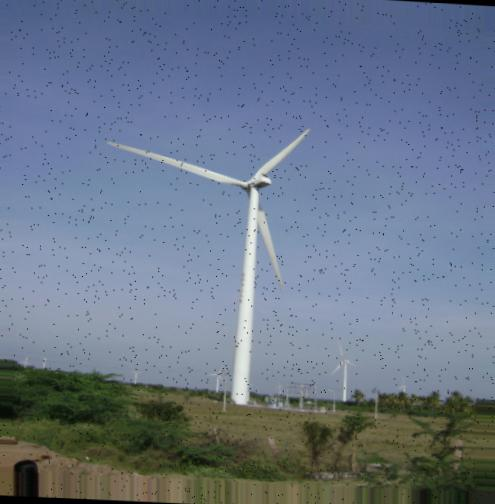wind turbine: (105, 126, 312, 404)
